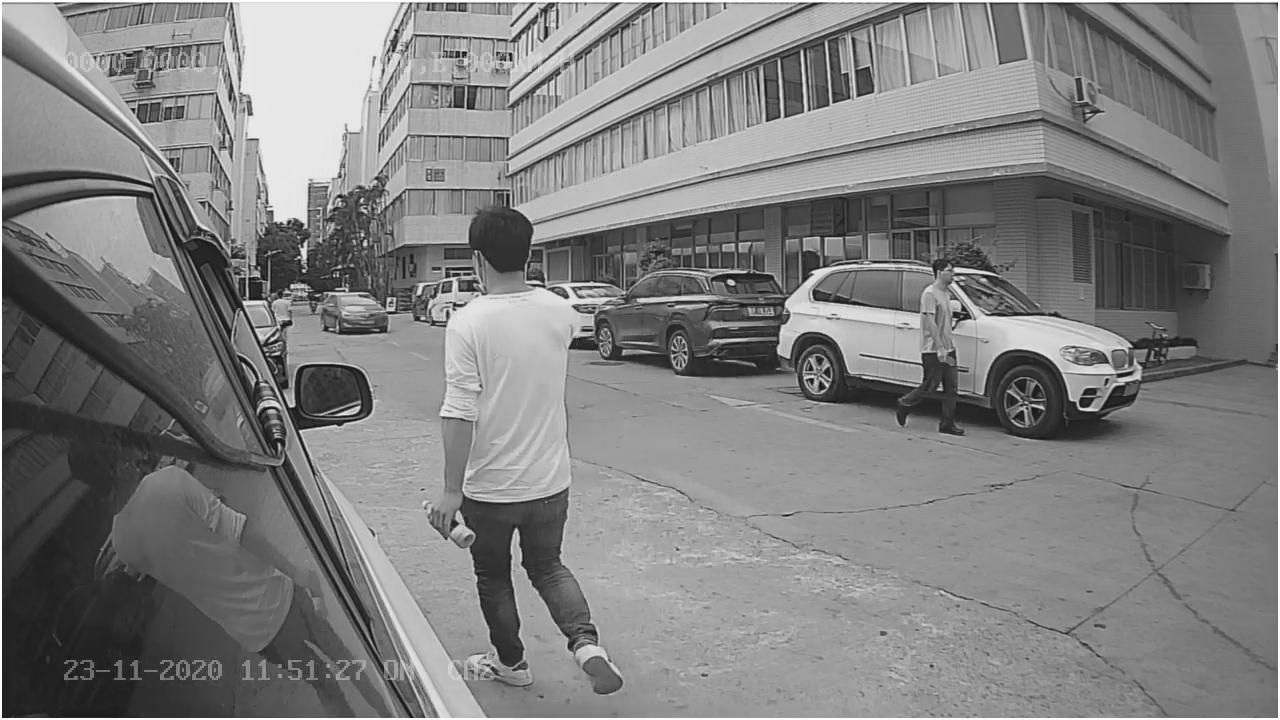person: (423, 199, 602, 454), (892, 251, 975, 438)
